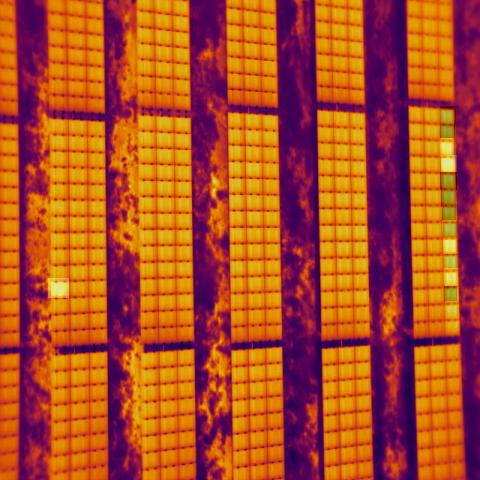fault: (48, 278, 69, 298), (439, 138, 456, 157), (440, 172, 457, 190), (441, 155, 457, 174), (443, 268, 458, 288), (440, 107, 456, 125), (441, 188, 456, 207), (443, 254, 458, 270), (440, 125, 455, 140), (442, 204, 456, 220), (443, 222, 457, 237), (443, 238, 456, 254), (444, 286, 457, 301)
